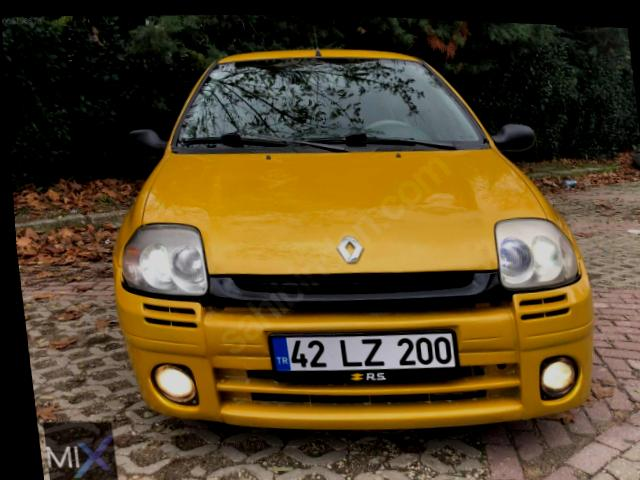plaka: (271, 330, 458, 373)
